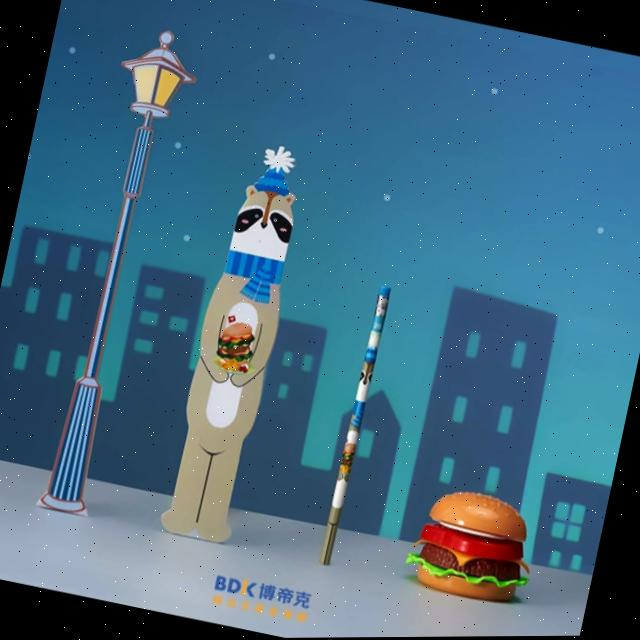pencil: (315, 281, 393, 573)
